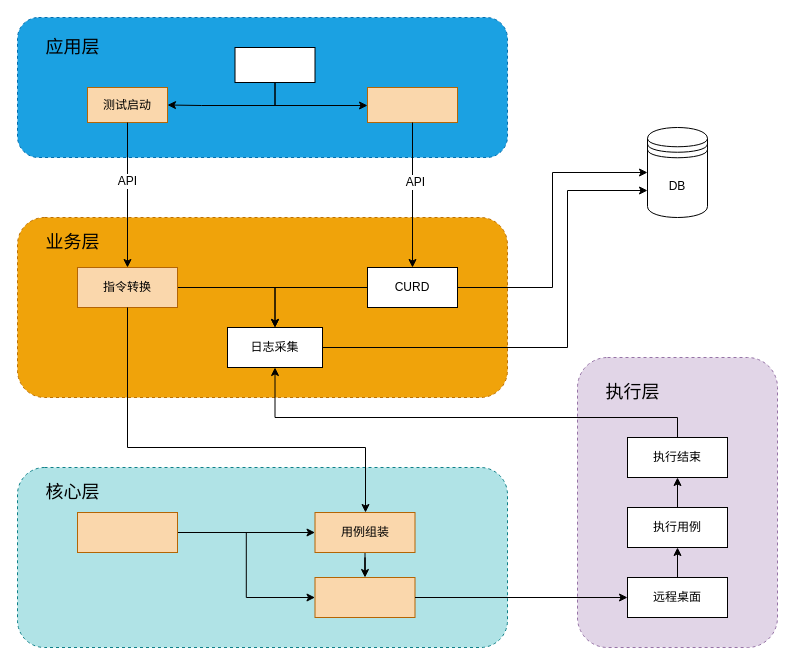
This 795x665 diagram has some shape labels left out. Here are the shapes that lost their labels. From the top down, the centre of each, then its label:
At point 274,64: "用例管理".
At point 412,104: "简易指令配置".
At point 127,532: "Helium".
At point 364,597: "启动".
